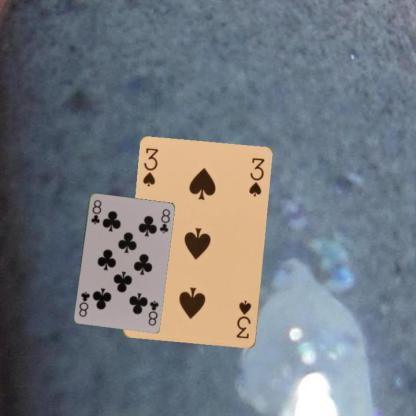3s: (140, 146, 160, 188), (234, 298, 253, 340)
8c: (88, 197, 102, 225), (146, 298, 160, 326)
